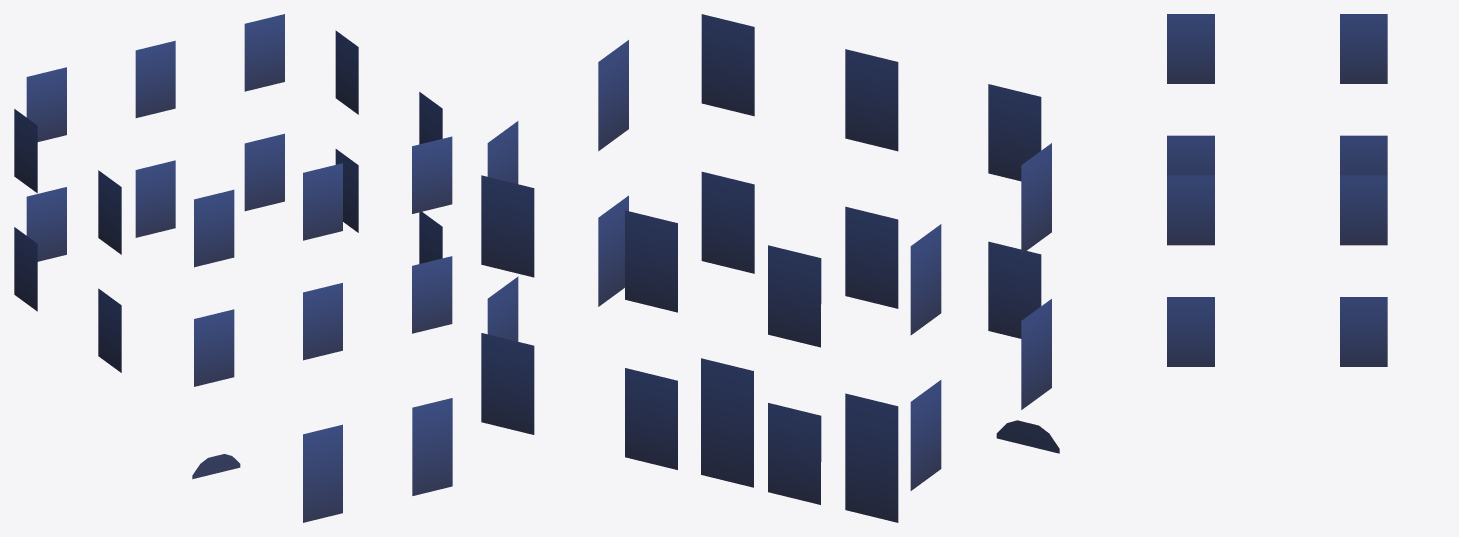
Rendered from windowRefl.116.fbx.
3 renders of one model, left to right at view 1: azimuth 30°, elevation 25°; view 2: azimuth 150°, elevation 25°; view 3: azimuth 270°, elevation 25°, orthographic. The views are drawn at different scales.
Parts seen in each view (by area): view 1: windowRefl.116; view 2: windowRefl.116; view 3: windowRefl.116.
Boxes of the visible parts, <box> form: windowRefl.116: <box>14,14,452,522</box>; windowRefl.116: <box>481,14,1059,522</box>; windowRefl.116: <box>1167,14,1387,366</box>.
Size of the model in its own units: 911 by 975 by 1015.
